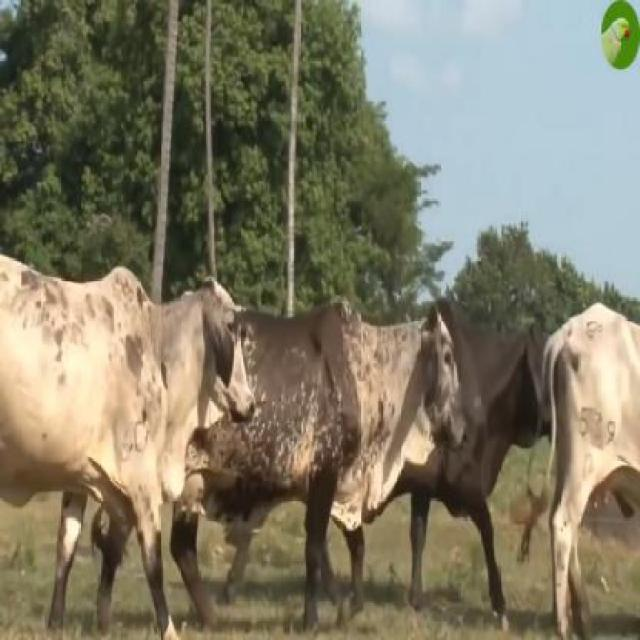Cow: (0, 253, 255, 638), (250, 298, 464, 630)
